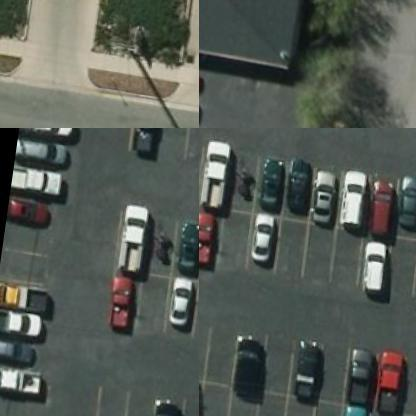car: (118, 205, 154, 273), (200, 141, 236, 209), (232, 332, 268, 391), (292, 340, 327, 400), (106, 273, 139, 331), (341, 167, 370, 230), (372, 175, 401, 238), (379, 354, 408, 416), (0, 283, 54, 316), (17, 136, 77, 165), (348, 346, 376, 404), (362, 236, 390, 294), (170, 272, 198, 329), (252, 208, 280, 265), (12, 166, 65, 196), (288, 154, 314, 212), (260, 155, 286, 212), (314, 171, 340, 228), (0, 363, 43, 397), (0, 307, 45, 338), (199, 209, 222, 267), (0, 337, 41, 368), (7, 198, 48, 228), (177, 219, 198, 276), (398, 169, 415, 233), (134, 128, 167, 155), (149, 396, 186, 415), (199, 68, 215, 106), (20, 128, 79, 138), (343, 406, 377, 415)
